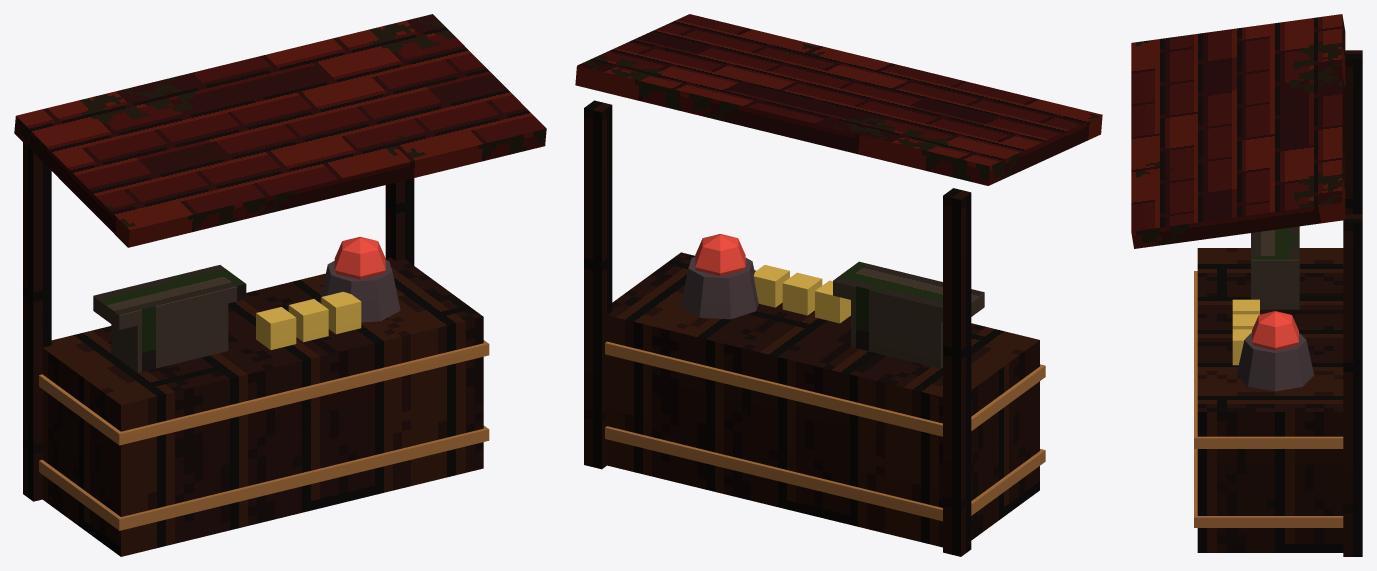
File: dwarf_stall.glb
3 renders of one model, left to right at view 1: azimuth 30°, elevation 25°; view 2: azimuth 150°, elevation 25°; view 3: azimuth 270°, elevation 25°, orthographic. The views are drawn at different scales.
Parts seen in each view (by area): view 1: dwarf_stall; view 2: dwarf_stall; view 3: dwarf_stall.
Boxes of the visible parts, box(x1,y1,x2,y2) form: dwarf_stall: box(14, 14, 546, 556); dwarf_stall: box(575, 14, 1102, 556); dwarf_stall: box(1131, 14, 1362, 556).
Bounding box in the file's own units: 2.3 × 2.06 × 1.19.
5 materials, 3 textured.
